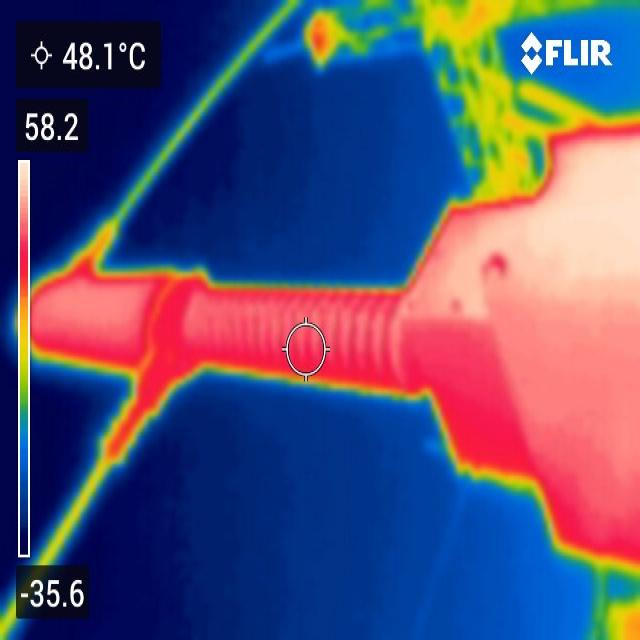Zona_Critica: (417, 319, 634, 560), (147, 287, 406, 388)
Zona_Extrema: (413, 139, 638, 517), (35, 282, 157, 350)
